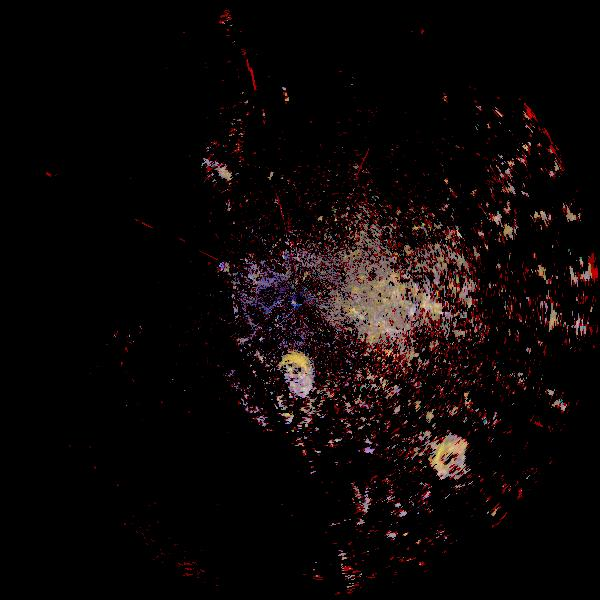roost: (426, 428, 486, 488), (271, 346, 328, 403)
